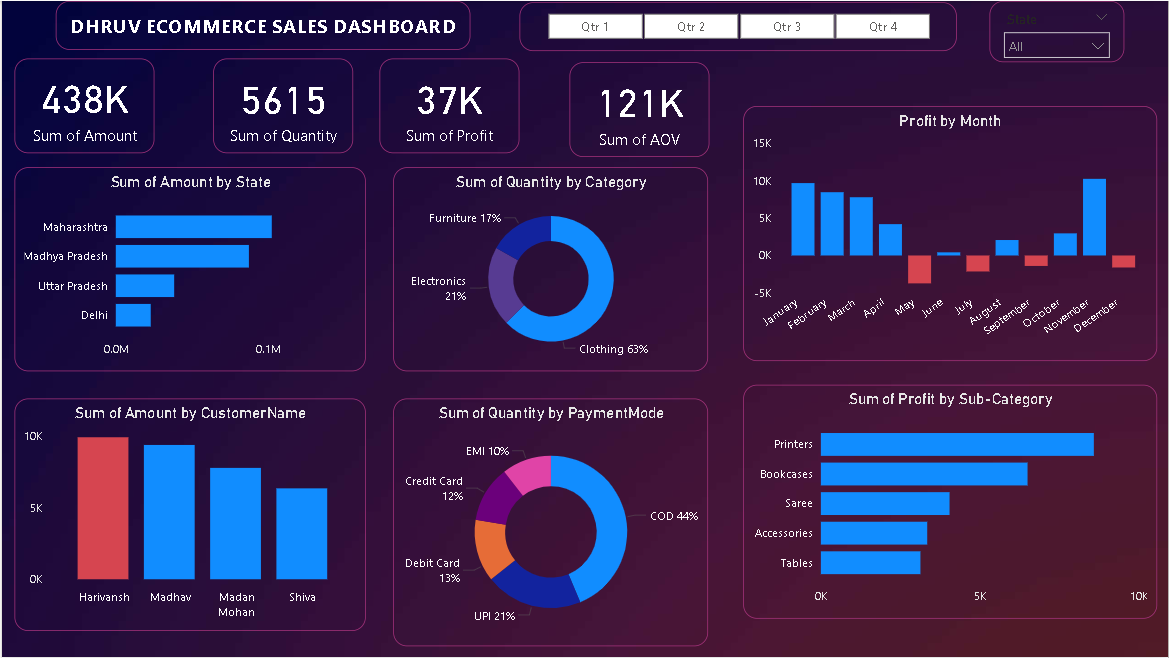

What the dashboard file says about the page in this screenshot:
{"tool":"powerbi","page":{"name":"Page 1","canvas":[1280,720],"ordinal":0},"visuals":[{"type":"textbox","box":[59,0,455.6,53.5],"z":0},{"type":"columnChart","title":" Profit by Month","fields":{"Category":["Orders.Order Date.Variation.Date Hierarchy.Month"],"Y":["Details.Profit"]},"box":[813.7,115.3,454.2,279.9],"z":1000},{"type":"barChart","fields":{"Category":["Details.Sub-Category"],"Y":["Details.Profit"]},"box":[813.7,421.3,454.2,256.6],"z":2000},{"type":"donutChart","fields":{"Y":["Details.Quantity"],"Category":["Details.PaymentMode"]},"box":[429.5,436.4,345.8,271.7],"z":3000},{"type":"donutChart","fields":{"Category":["Details.Category"],"Y":["Details.Quantity"]},"box":[429.5,182.5,345.8,223.7],"z":4000},{"type":"card","fields":{"Values":["Details.Amount"]},"box":[13.8,63.8,153.8,103.8],"z":5000},{"type":"card","fields":{"Values":["Details.Quantity"]},"box":[231.9,63.1,153.7,104.3],"z":6000},{"type":"card","fields":{"Values":["Details.Profit"]},"box":[414.4,63.1,153.7,104.3],"z":7000},{"type":"card","fields":{"Values":["Details.AOV"]},"box":[623,67.2,153.7,104.3],"z":8000},{"type":"barChart","fields":{"Category":["Orders.State"],"Y":["Details.Amount"]},"box":[13.7,182.5,385.6,223.7],"z":9000},{"type":"columnChart","fields":{"Category":["Orders.CustomerName"],"Y":["Details.Amount"]},"box":[13.7,436.4,385.6,255.2],"z":10000},{"type":"slicer","fields":{"Values":["Orders.Order Date.Variation.Date Hierarchy.Quarter"]},"box":[568.1,1.4,480.3,53.5],"z":11000},{"type":"slicer","fields":{"Values":["Orders.State"]},"box":[1084.1,0,148.2,67.2],"z":12000}]}

Visuals, with their boxes in screenshot pixels (x1, y1, x2, y2), scaled from the page's 1280x720 canvas onto the 1169x658 screenshot:
textbox: left=54, top=0, right=470, bottom=49
" Profit by Month" columnChart: left=743, top=105, right=1158, bottom=361
barChart - Details.Sub-Category x Details.Profit: left=743, top=385, right=1158, bottom=620
donutChart - Details.Quantity x Details.PaymentMode: left=392, top=399, right=708, bottom=647
donutChart - Details.Category x Details.Quantity: left=392, top=167, right=708, bottom=371
card - Details.Amount: left=13, top=58, right=153, bottom=153
card - Details.Quantity: left=212, top=58, right=352, bottom=153
card - Details.Profit: left=378, top=58, right=519, bottom=153
card - Details.AOV: left=569, top=61, right=709, bottom=157
barChart - Orders.State x Details.Amount: left=13, top=167, right=365, bottom=371
columnChart - Orders.CustomerName x Details.Amount: left=13, top=399, right=365, bottom=632
slicer - Orders.Order Date.Variation.Date Hierarchy.Quarter: left=519, top=1, right=957, bottom=50
slicer - Orders.State: left=990, top=0, right=1125, bottom=61
